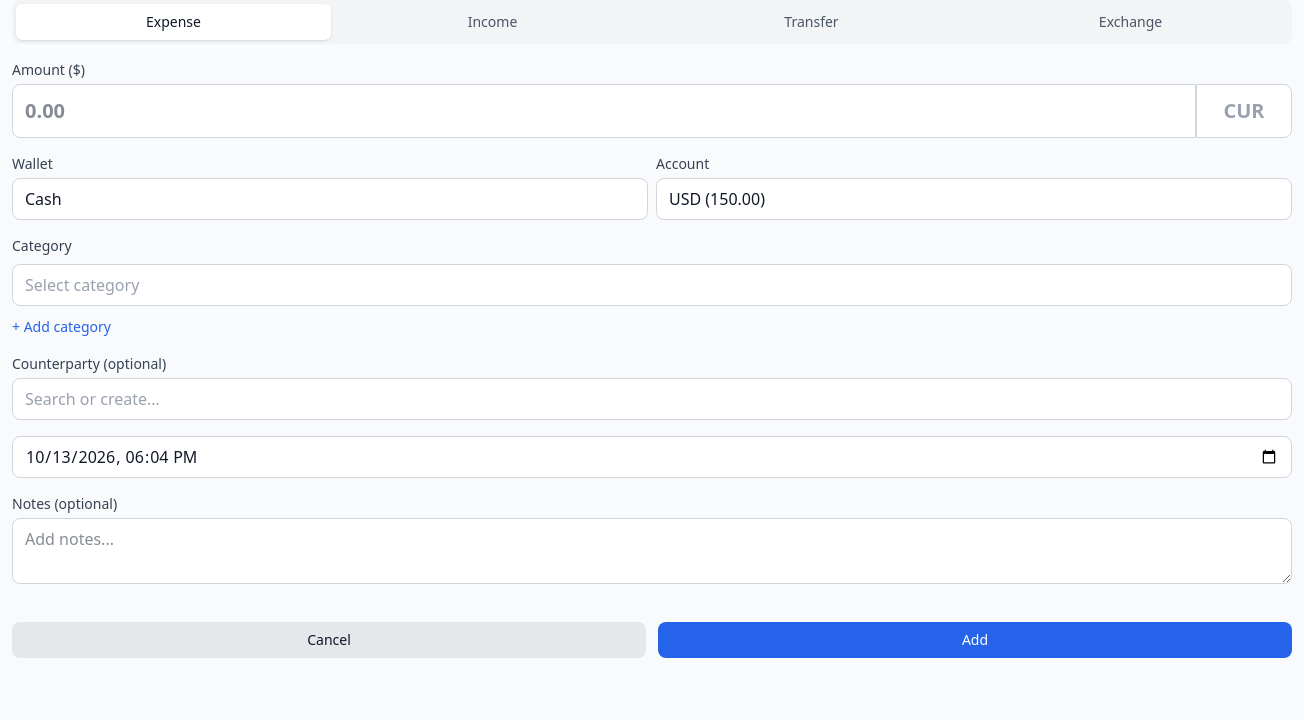
Test: TransactionForm › Category/Tag selection › shows category field for income type
The width and height of the screenshot is (1304, 720).
Expected: the text "Category" is shown, [12,236,72,255]
Click the button "Income": (492, 22) [335,4,650,40]
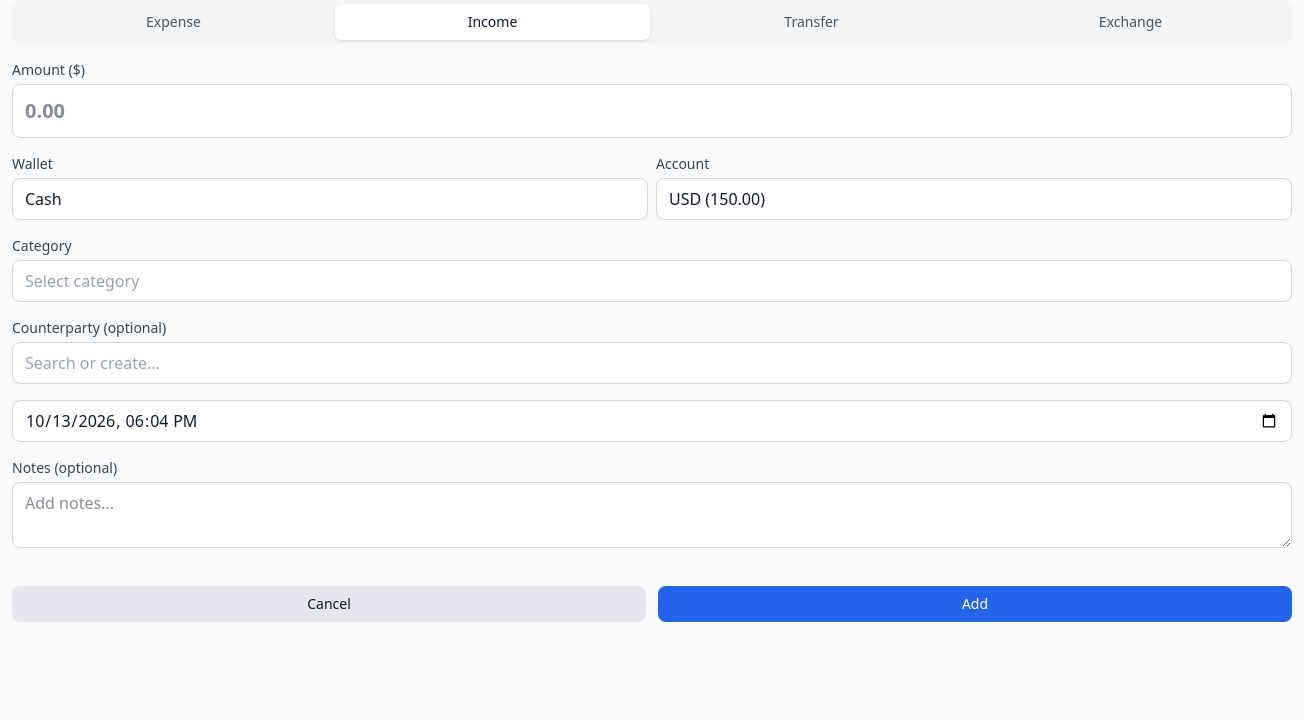
Result: the dropdown labelled "Category" is shown at [12,260,1292,302]
